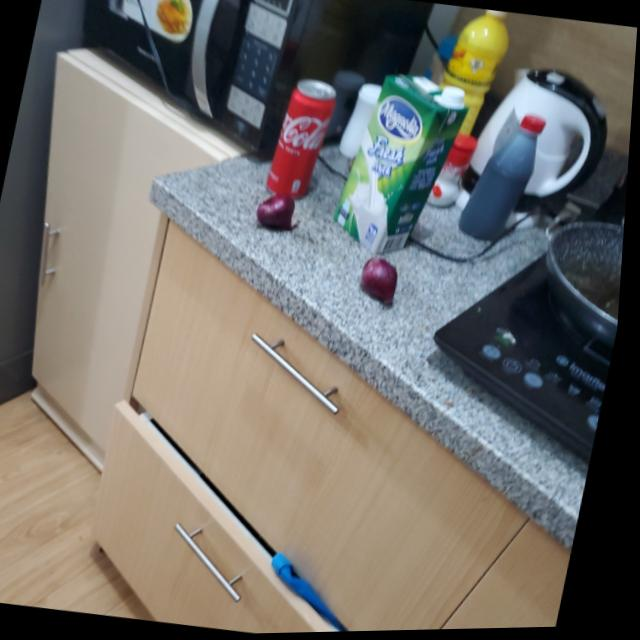coke: (265, 78, 344, 198)
milk: (332, 69, 475, 264)
onion: (359, 257, 411, 314), (258, 196, 304, 232)
